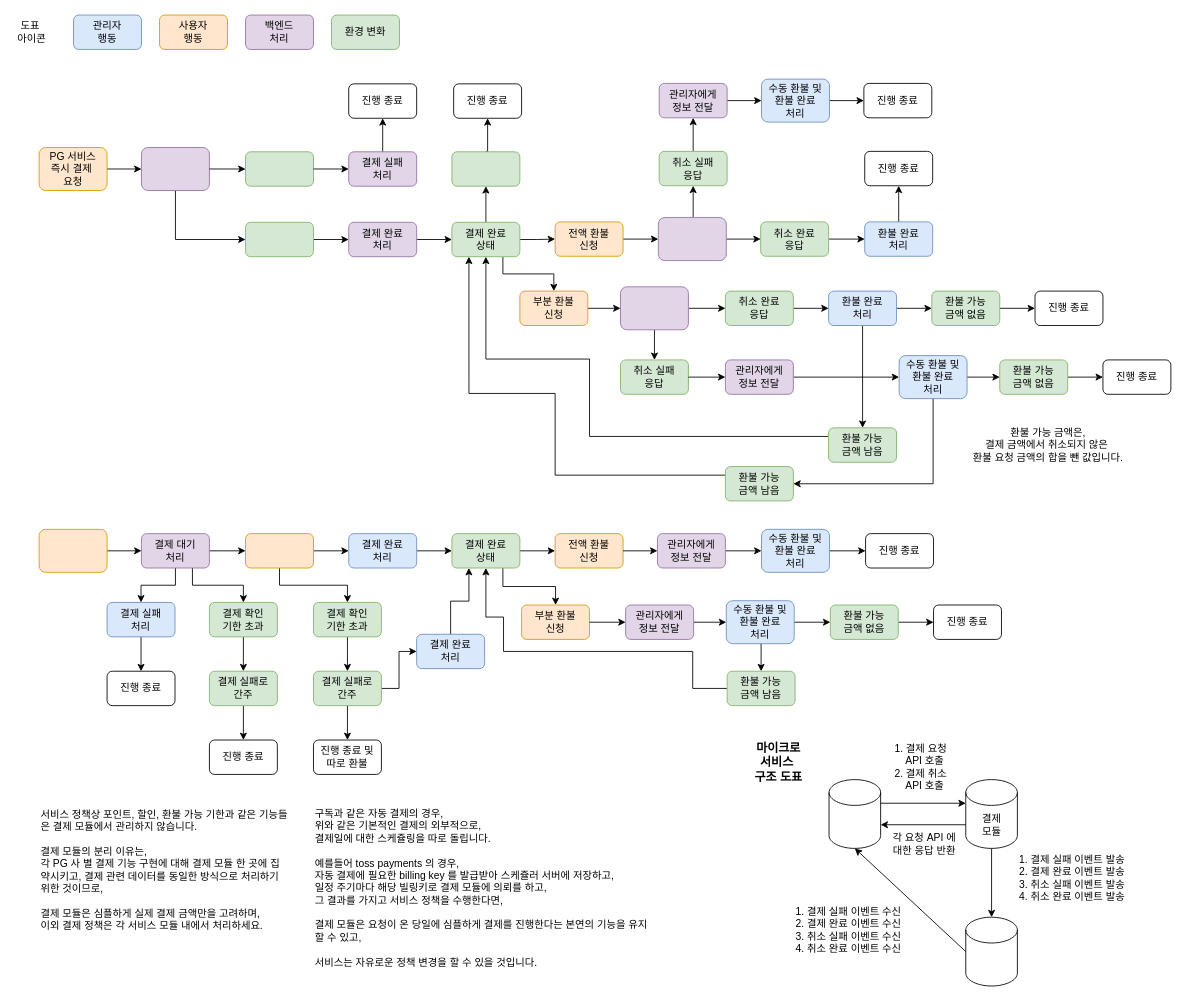
Image size: 1186x1001. Some labels were removed from this diagram. The box of each missing label's shape, as (x1, y1, x2, y2) in pixels:
Kafka: (965, 916, 1017, 986)
PG 사 결제 승인 API 호출: (141, 147, 209, 190)
PG 사 결제 취소 API 호출: (657, 217, 726, 261)
PG 사 부분 결제 취소 API 호출: (620, 286, 688, 330)
결제 실패 응답: (245, 151, 313, 186)
결제 완료 응답: (245, 221, 313, 257)
계좌 이체 완료: (245, 533, 313, 568)
수동 계좌 이체 결제 요청: (38, 528, 107, 572)
유료 서비스 모듈: (828, 779, 881, 848)
환불 요청이 없음: (451, 151, 520, 186)
